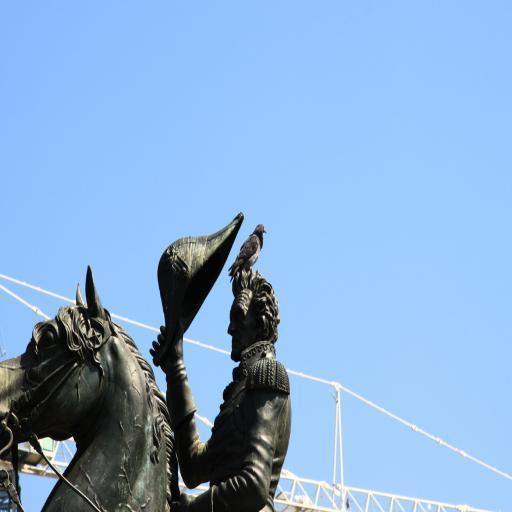horse: (0, 264, 176, 512)
